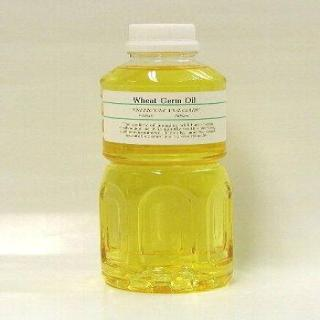Plastic-bottle: (93, 23, 242, 295)
